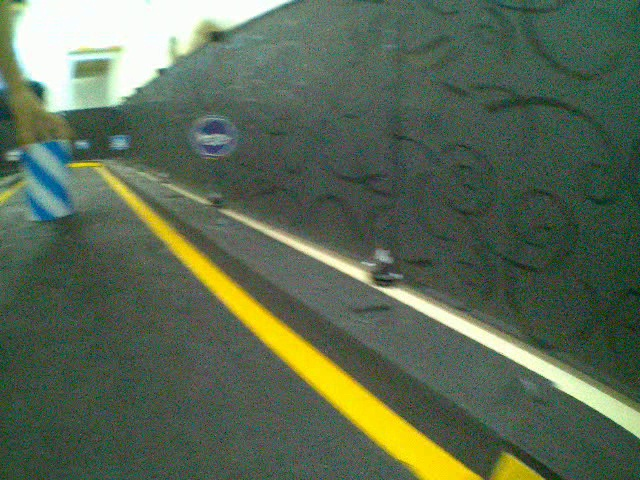bucket: (23, 139, 74, 224)
